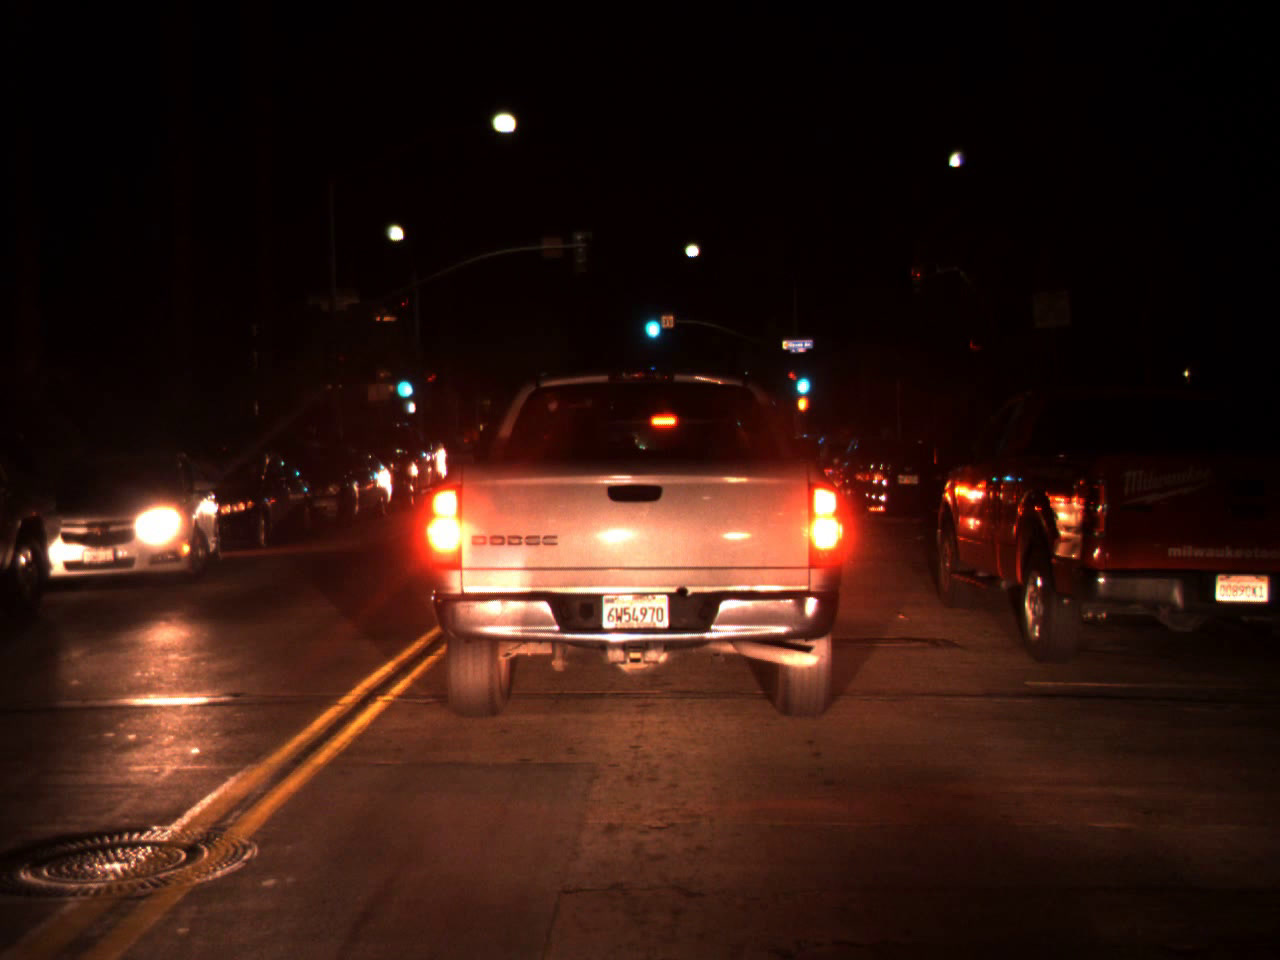go: (639, 301, 662, 343), (392, 361, 413, 403), (792, 356, 811, 401)
